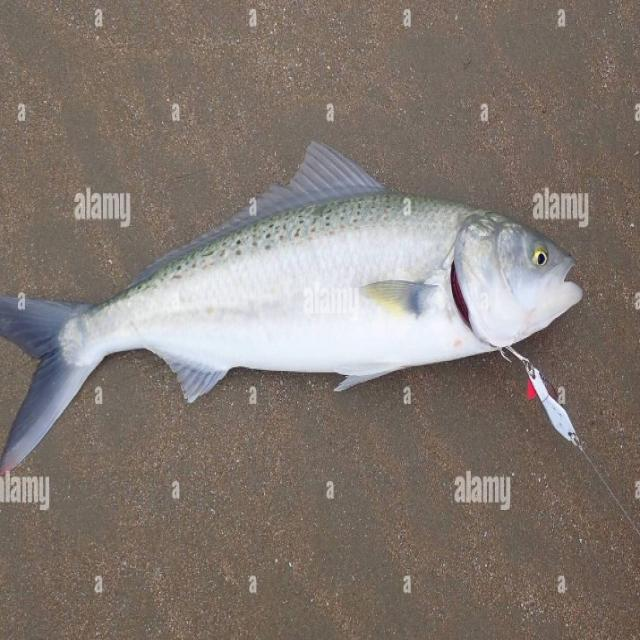Australian Salmon: (2, 127, 593, 497)
